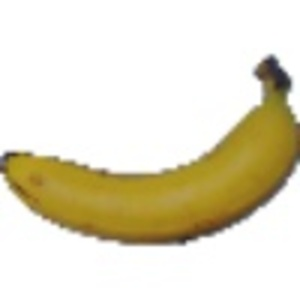banana: (5, 51, 296, 252)
